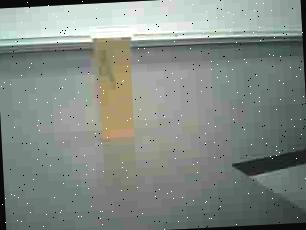Bottle A: (80, 20, 146, 148)
